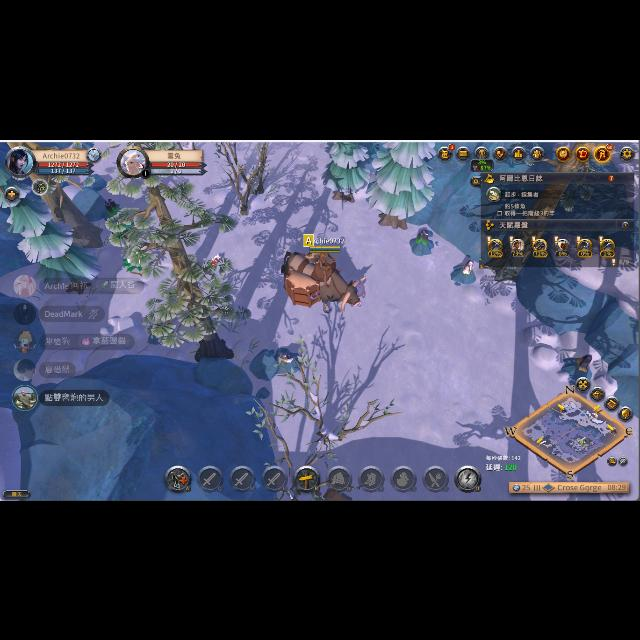mine_ii: (562, 353, 596, 382), (276, 348, 304, 372), (455, 257, 479, 283)
mine_iii: (408, 228, 436, 256)
